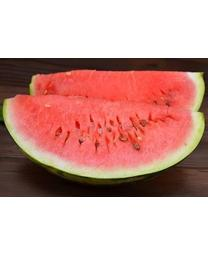watermelon: (2, 69, 205, 179)
